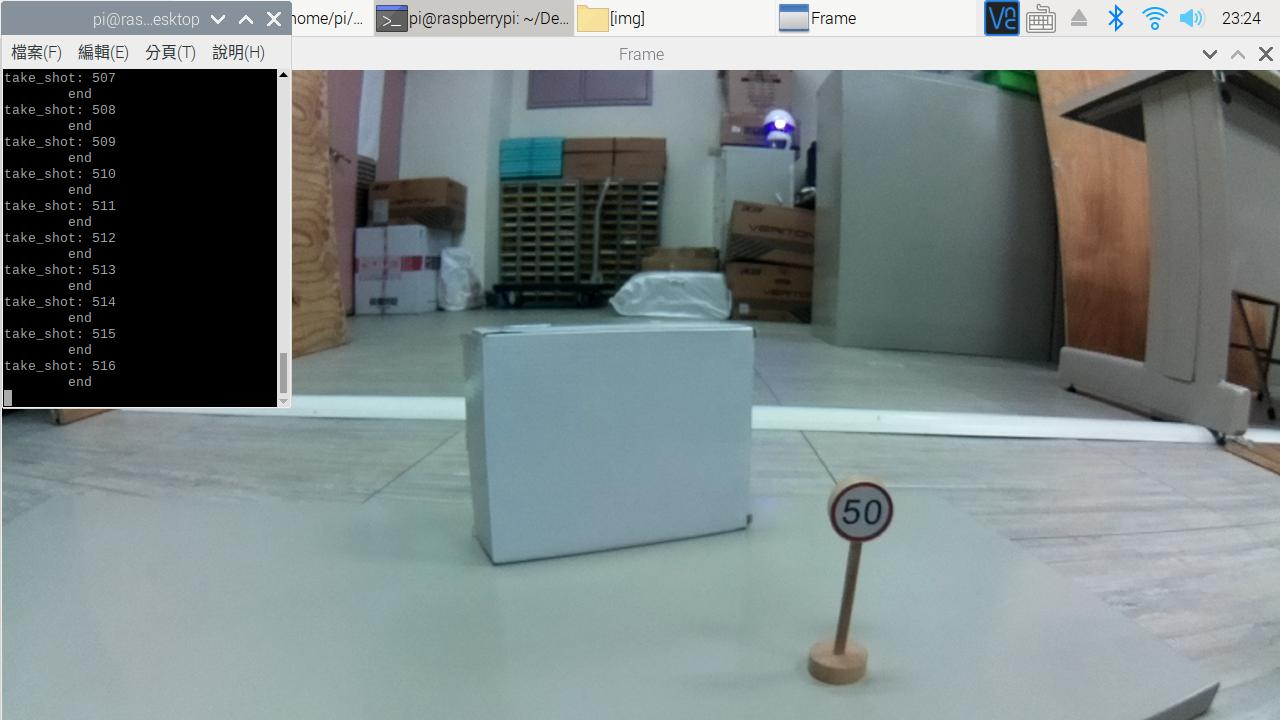Speed50: (811, 478, 898, 544)
